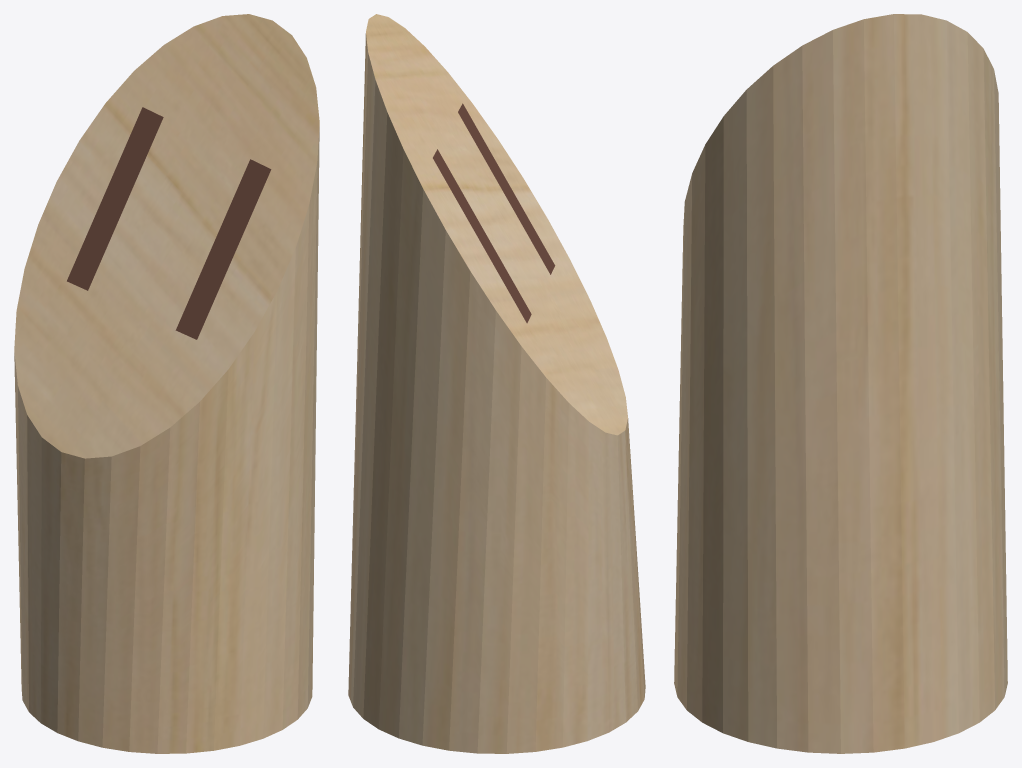
File: pin11.glb
3 renders of one model, left to right at view 1: azimuth 30°, elevation 25°; view 2: azimuth 150°, elevation 25°; view 3: azimuth 270°, elevation 25°, orthographic. The views are drawn at different scales.
Visible parts, largest first — view 1: 円柱.007; view 2: 円柱.007; view 3: 円柱.007.
Boxes of the visible parts, <box> form: 円柱.007: <box>14,14,319,753</box>; 円柱.007: <box>348,14,645,753</box>; 円柱.007: <box>674,14,1007,753</box>.
Bounding box in the file's own units: 1.16 × 2.79 × 1.16.
Materials: 2 (1 with a texture image).
